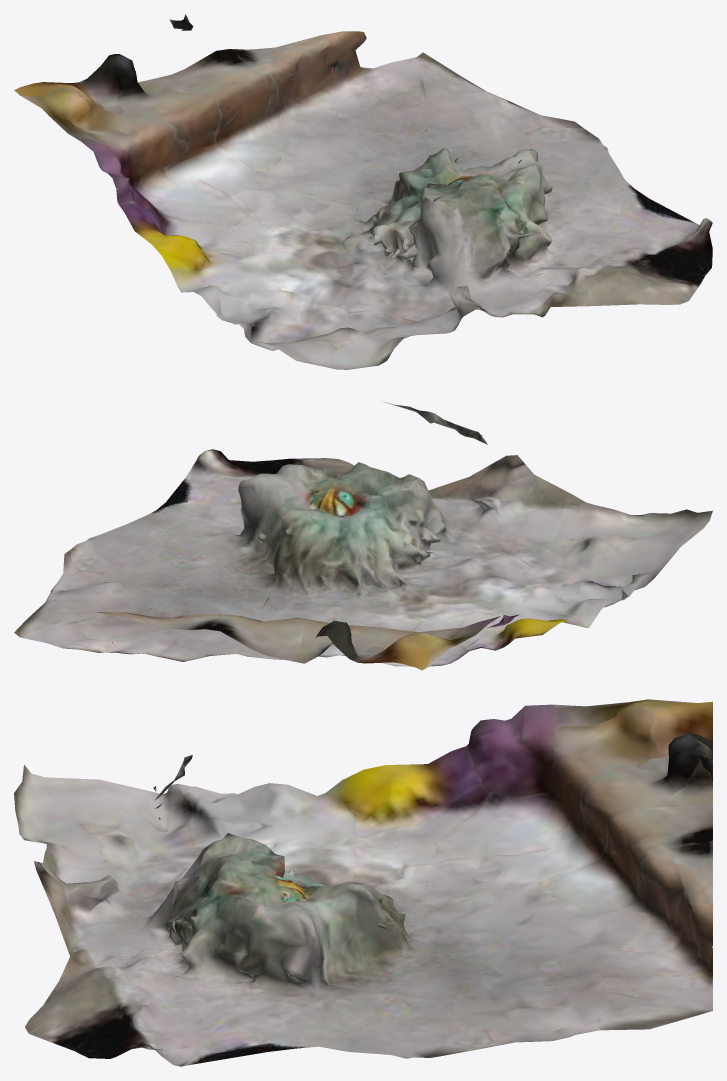
The model's file is hall.glb.
3 renders of one model, top to bottom at view 1: azimuth 30°, elevation 25°; view 2: azimuth 150°, elevation 25°; view 3: azimuth 270°, elevation 25°, orthographic. The views are drawn at different scales.
Bounding box in the file's own units: 2.88 × 0.7841 × 3.18.
Materials: 1 (1 with a texture image).
